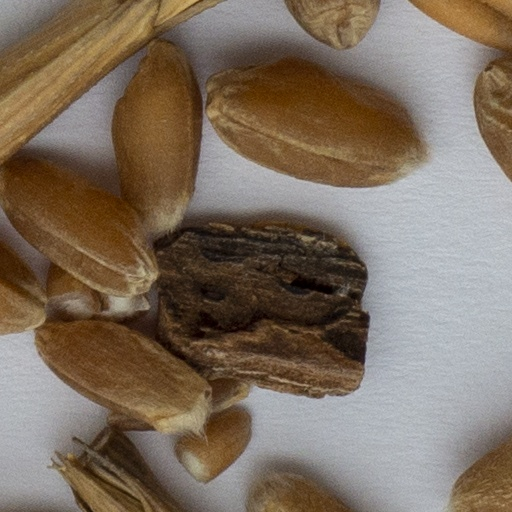Peel-poly: (157, 223, 368, 396), (0, 0, 206, 162), (52, 430, 174, 511)
Wheat-grain-damaged-poly: (169, 405, 256, 482)
